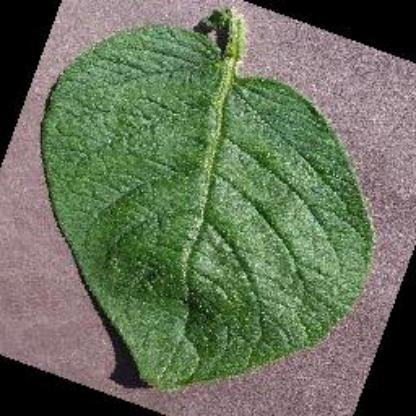Healthy-plant: (22, 18, 394, 394)
